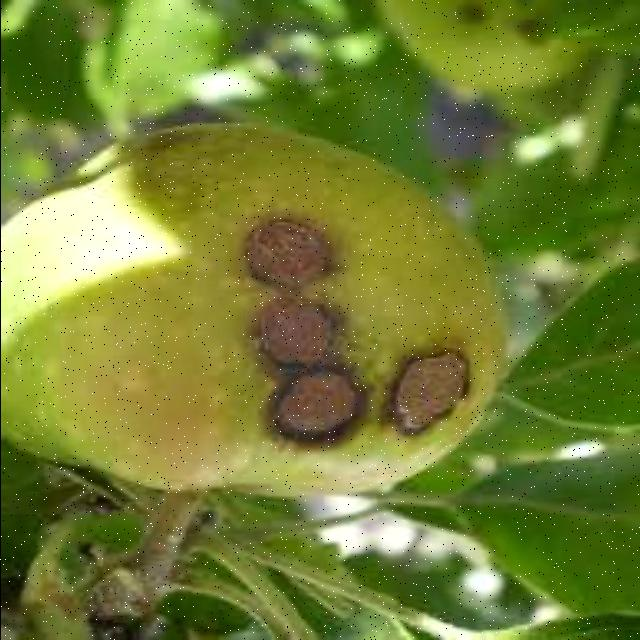SCAB: (48, 148, 536, 532)
